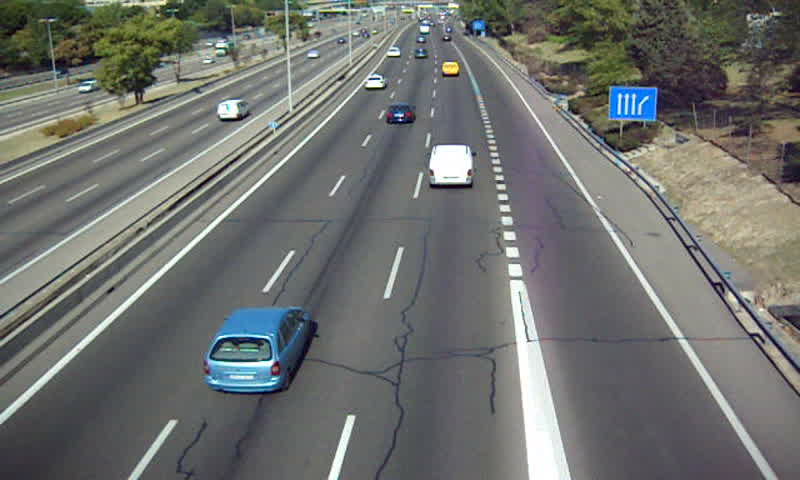car: (201, 307, 311, 394), (384, 104, 415, 124), (362, 75, 386, 92), (384, 45, 402, 58), (413, 46, 429, 60)
van: (429, 145, 474, 189), (440, 61, 460, 79)
